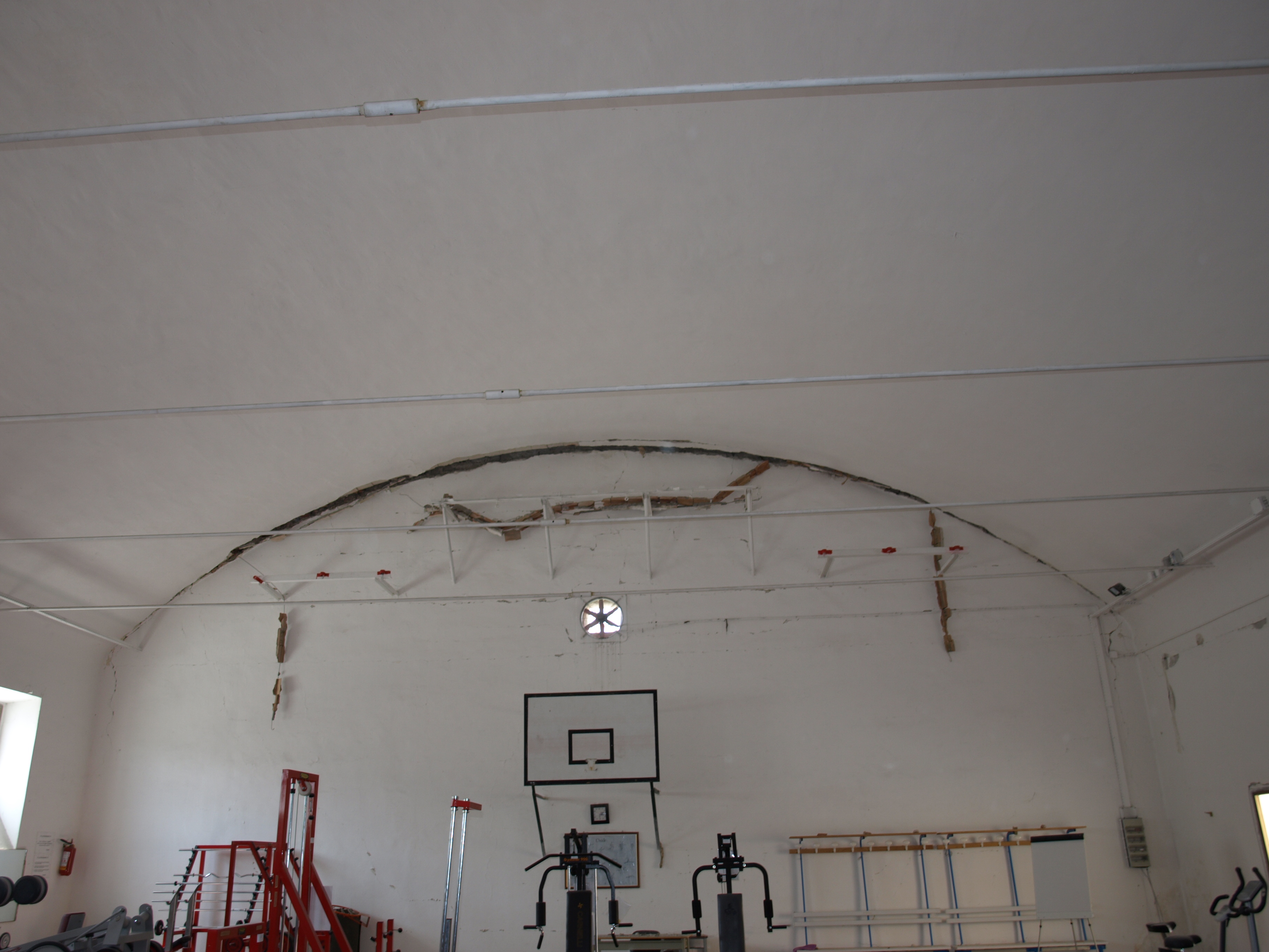Crack: (106, 432, 1110, 656), (295, 632, 939, 672), (1146, 606, 1266, 761), (298, 598, 575, 654), (1004, 717, 1098, 822), (1101, 621, 1155, 798), (352, 829, 441, 907), (554, 528, 644, 588), (265, 543, 444, 565), (174, 609, 246, 656), (209, 684, 262, 740), (121, 656, 264, 674), (654, 524, 748, 551), (96, 663, 119, 771), (960, 627, 1088, 646), (702, 622, 789, 643), (454, 544, 545, 559), (461, 919, 521, 940), (961, 560, 1024, 569)
Debris: (266, 608, 292, 736), (930, 583, 964, 664)
